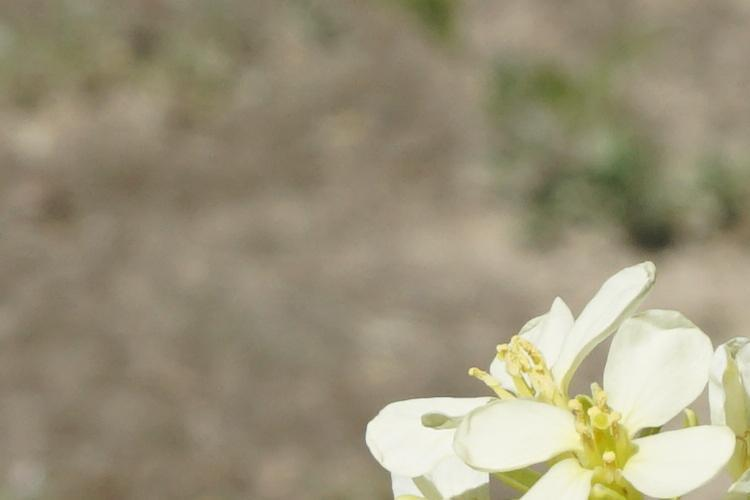white: (370, 261, 638, 415), (516, 327, 735, 499)
